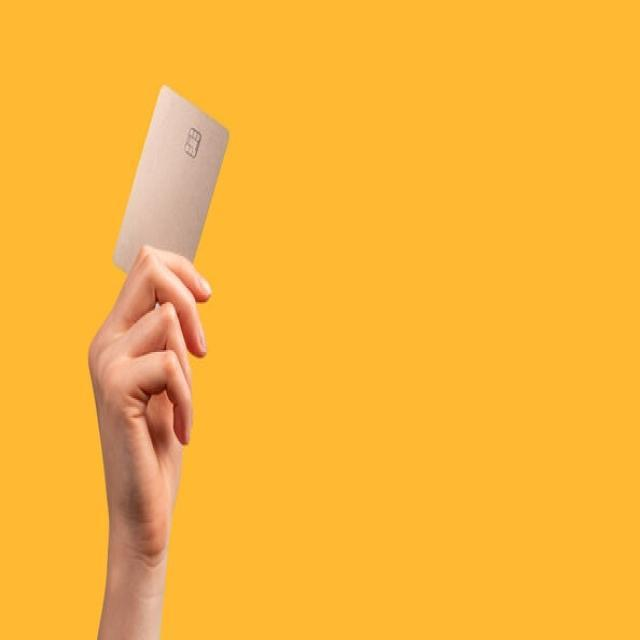payment_card: (112, 83, 229, 275)
